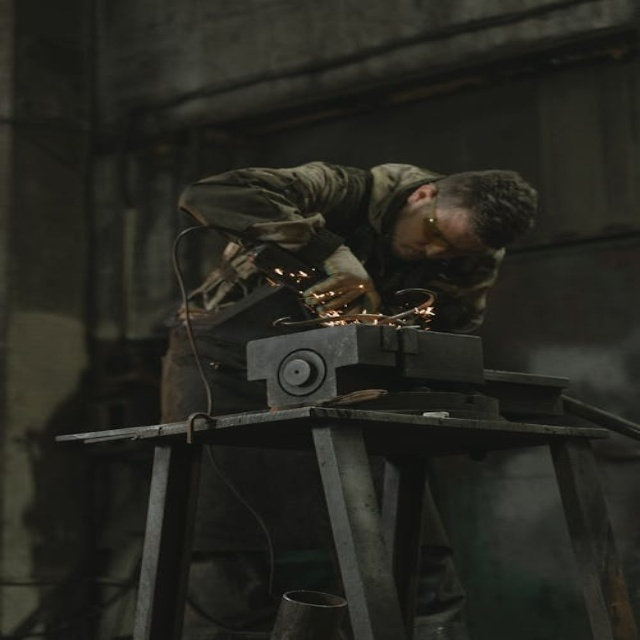Gafas: (421, 194, 461, 260)
Guantes: (303, 244, 378, 322)
Sin_mascara: (393, 236, 422, 263)
